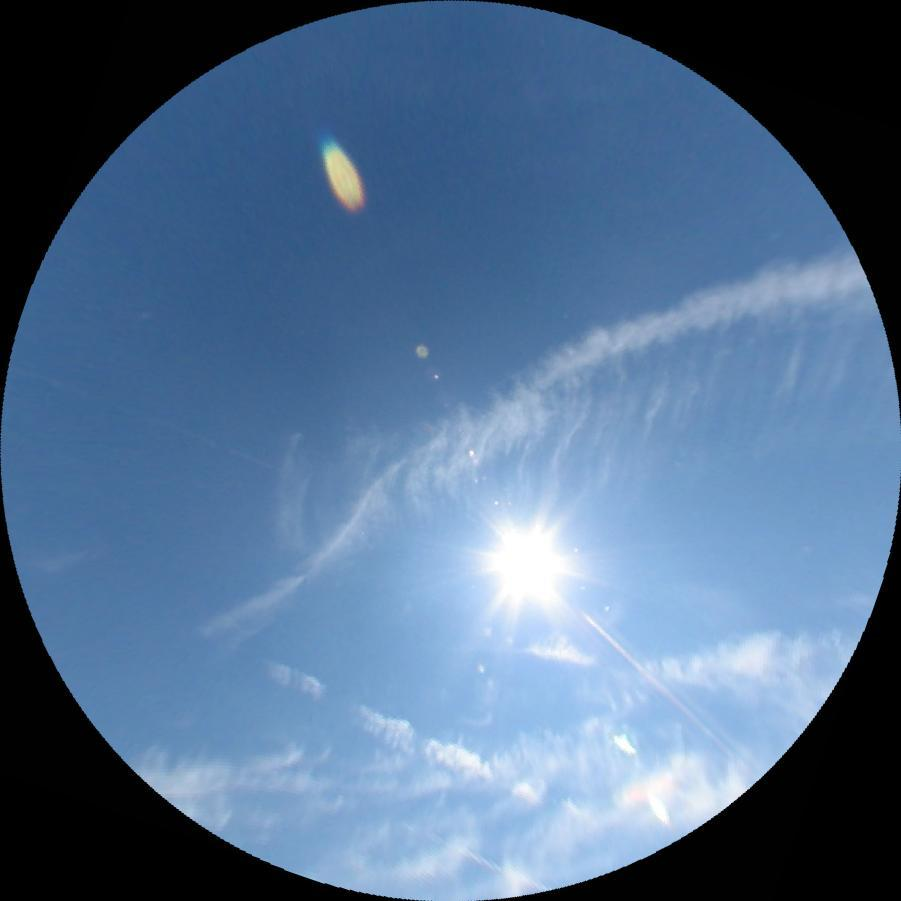contrail veryold: (159, 198, 873, 662), (251, 297, 901, 568), (262, 657, 559, 808)
parasite: (576, 608, 742, 764)
sun: (482, 514, 569, 604)
